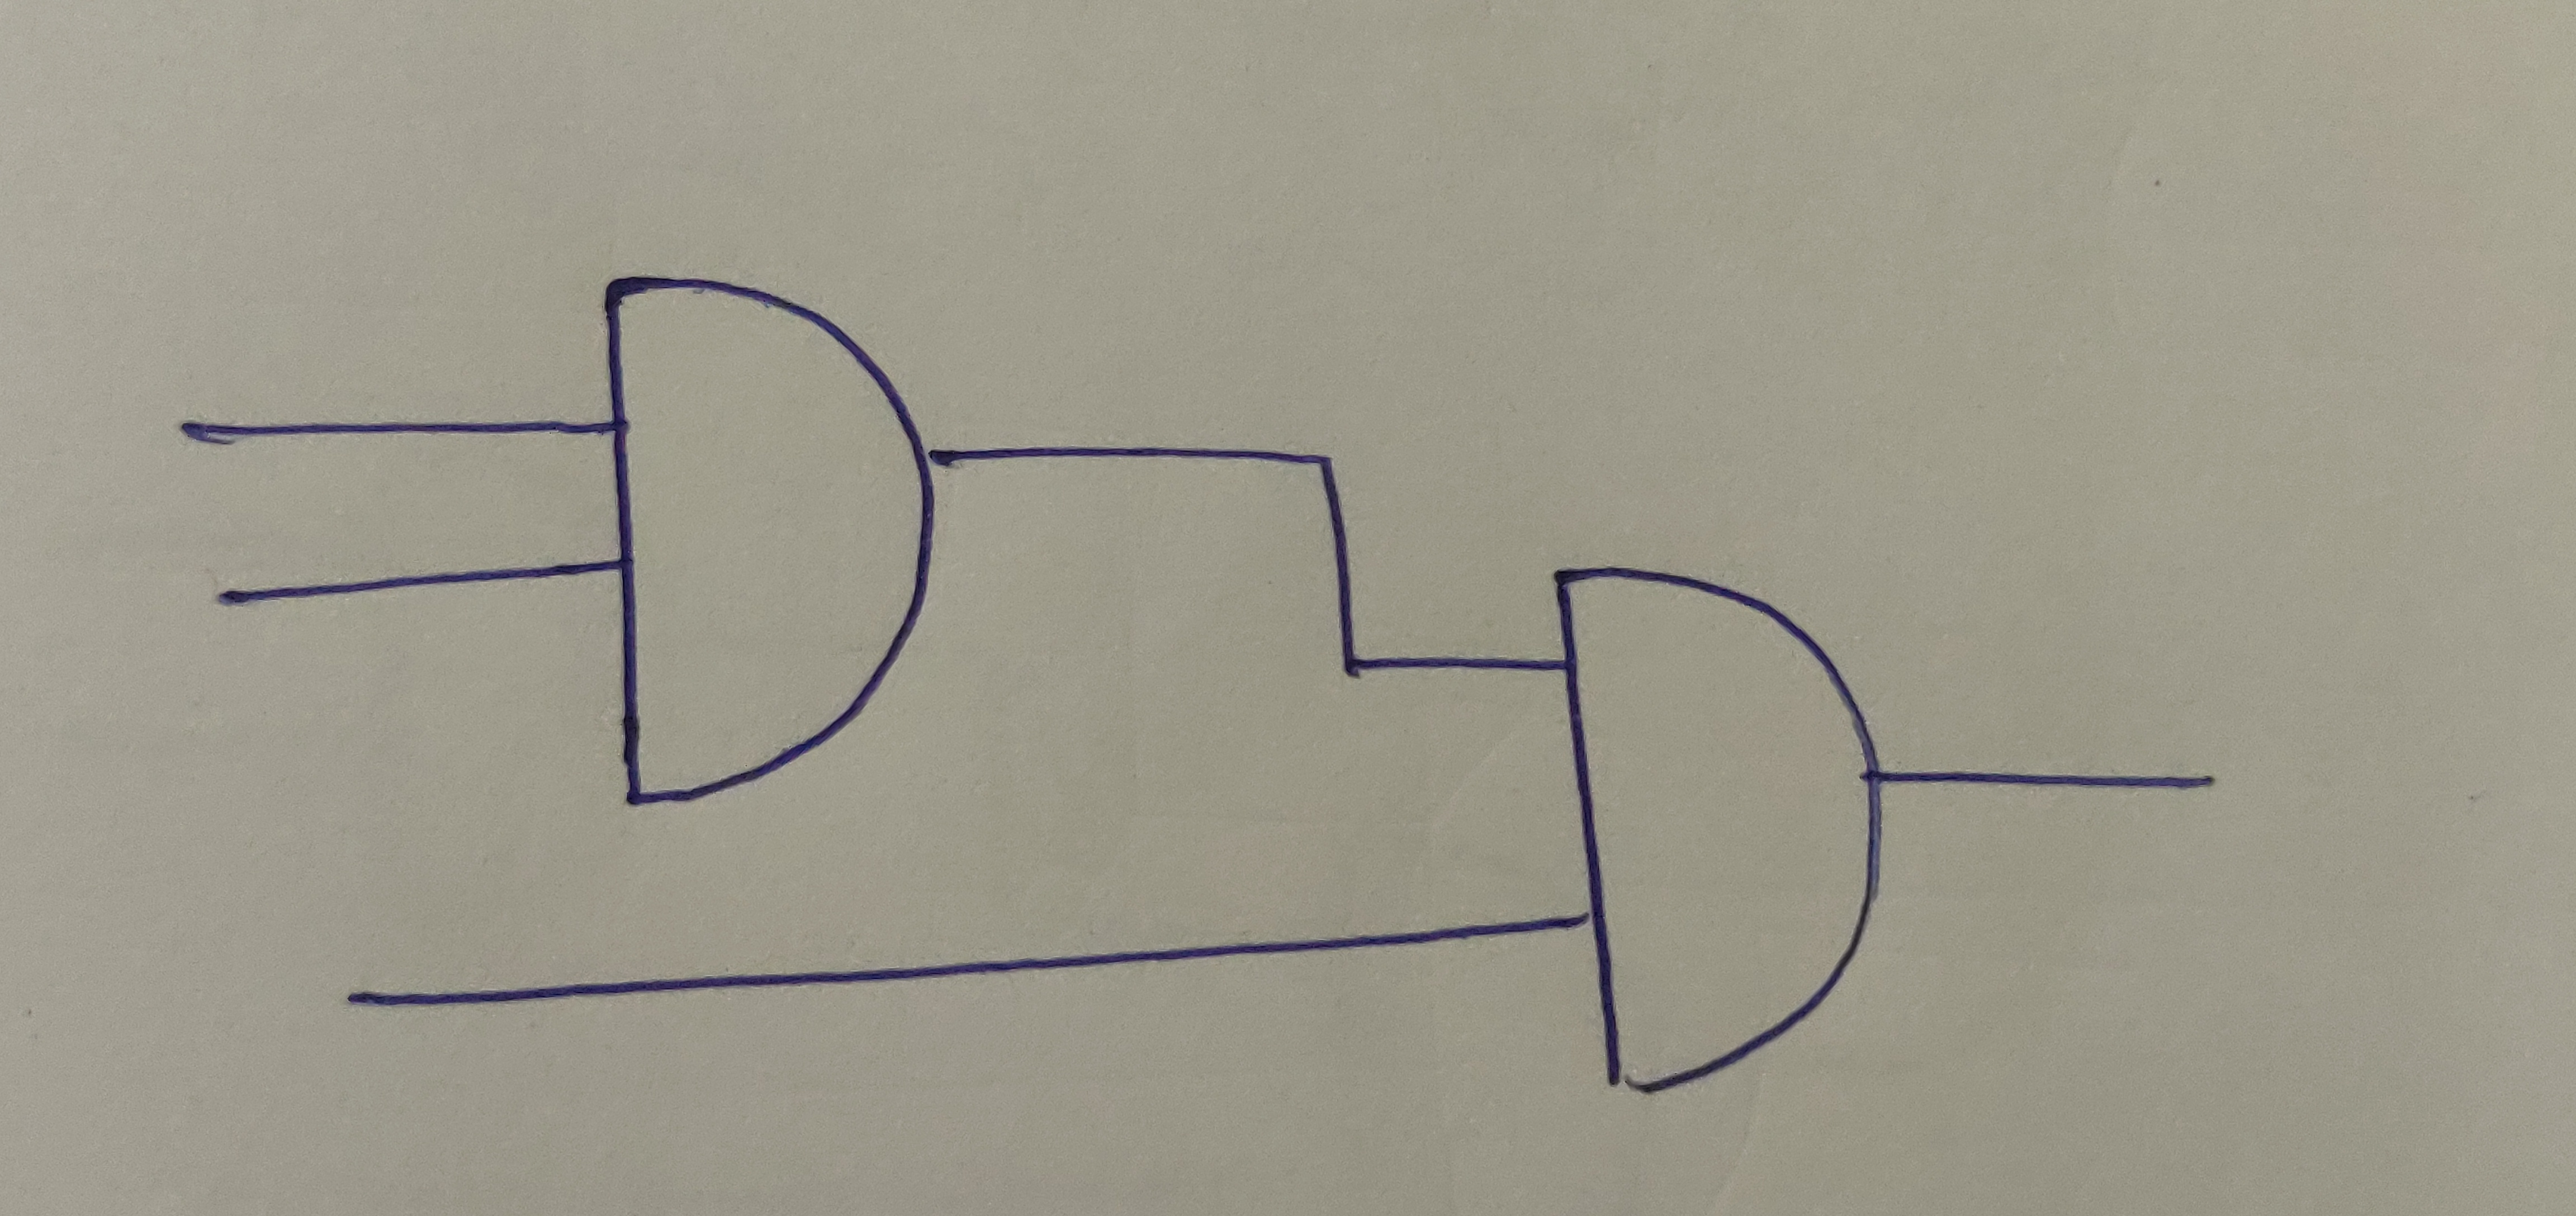and: (600, 274, 935, 808), (1551, 565, 1889, 1091)
